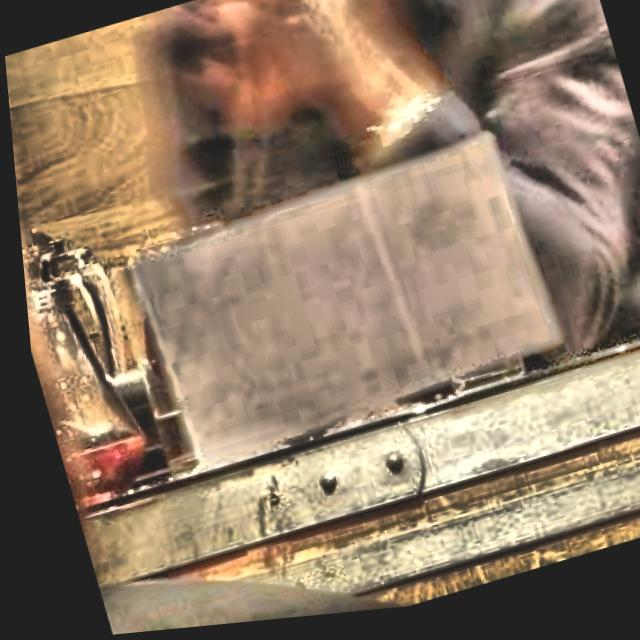Paper-bag: (91, 121, 587, 497)
